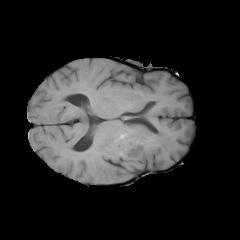glioma: (85, 111, 171, 182)
